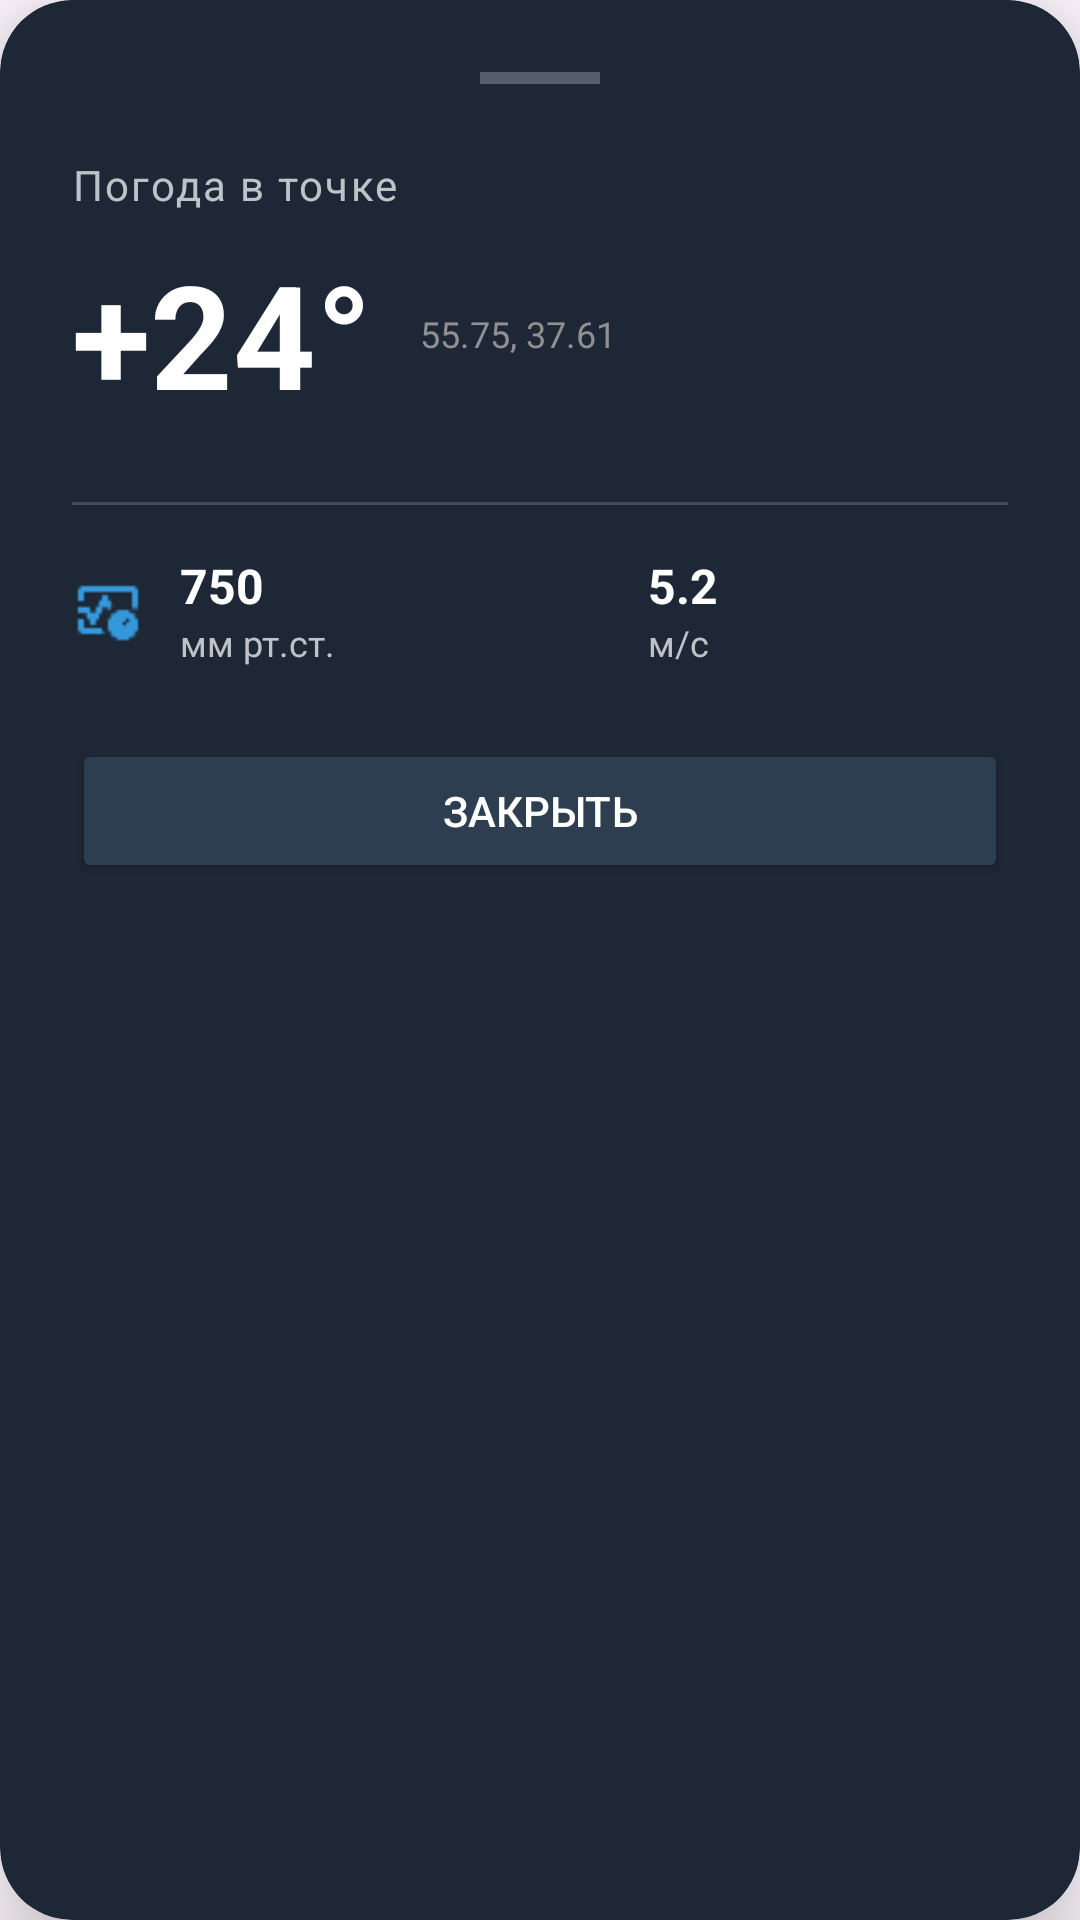

Icon click points for this 1080×1920 phone screenshot, format point (x, y):
pressure: point (108, 613)
